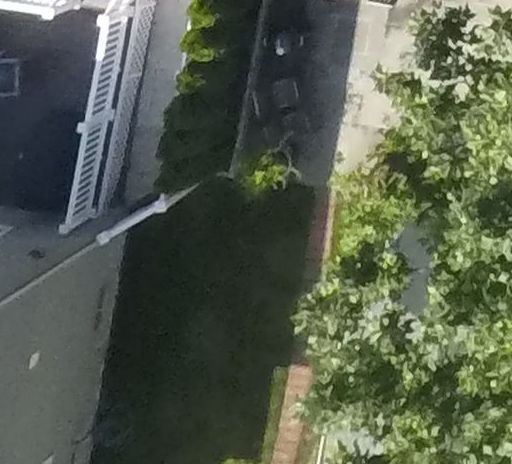container: (256, 141, 301, 181)
